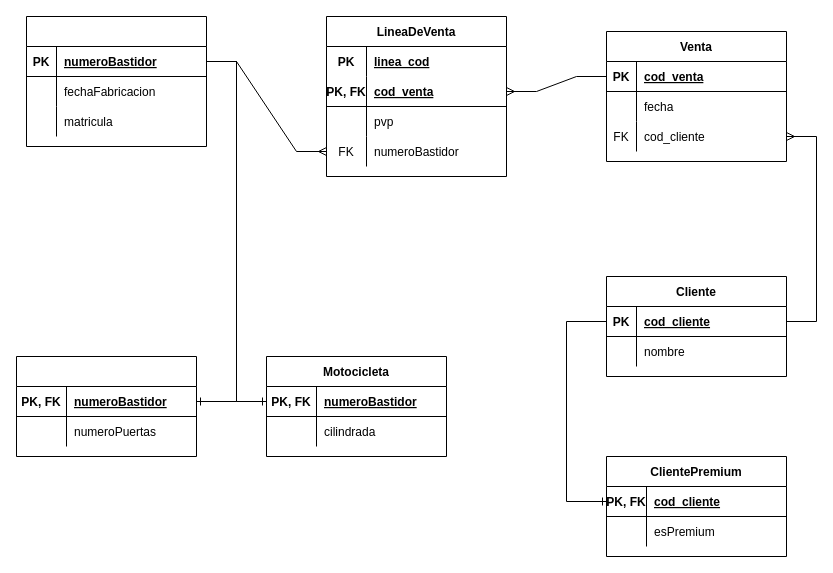
Some shapes in this 833 by 573 pixel diagram are drawn without their labels. The shapes that lost their labels are listed below. From the top down, each one's box as (x1, y1, x2, y2) in pixels, then its label:
(26, 16, 206, 146): Vehiculo
(16, 356, 196, 456): Coche
